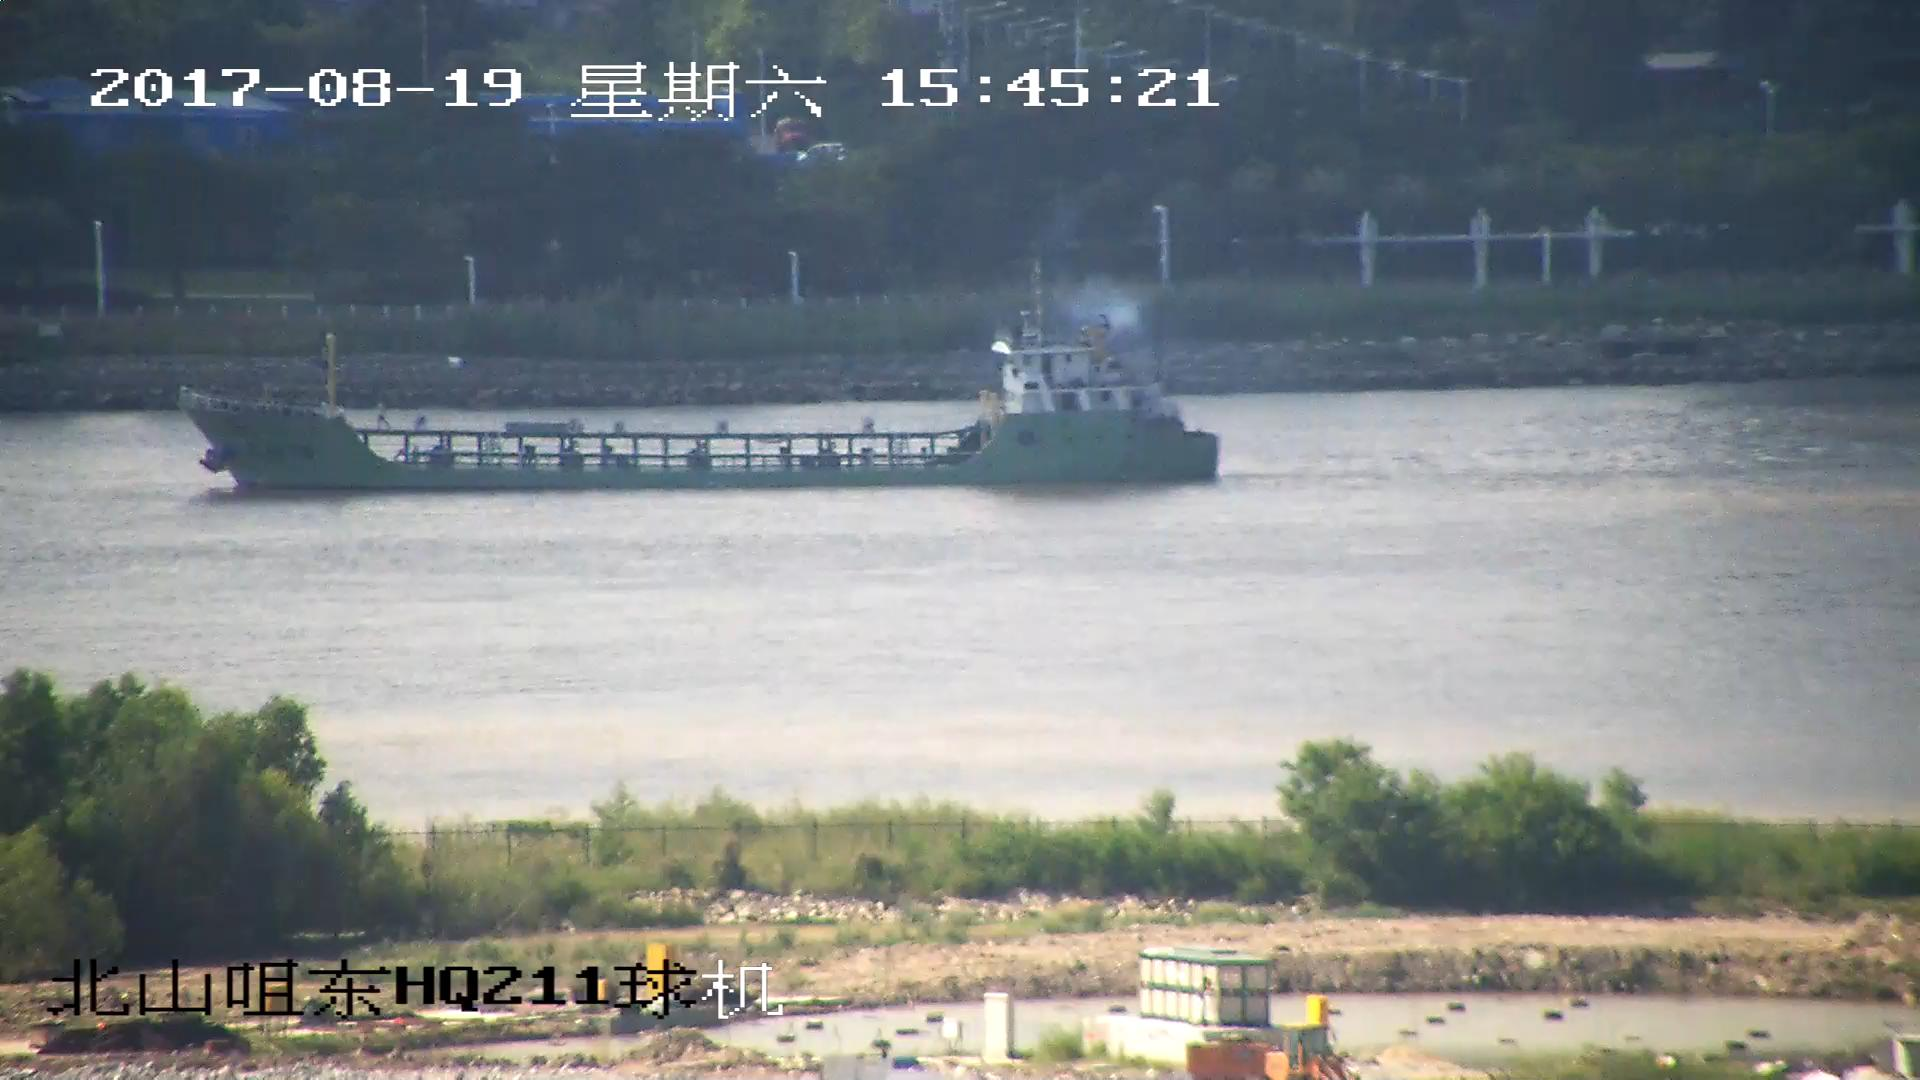general cargo ship: (179, 281, 1223, 490)
